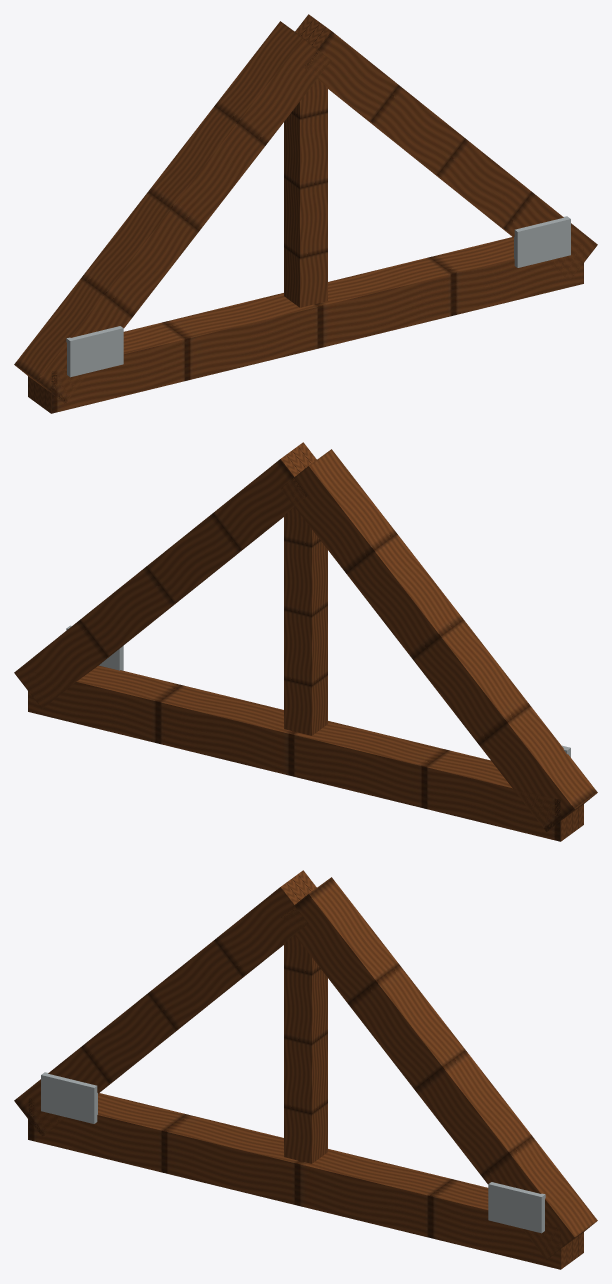
The model's file is modular-survival-base-builder-gable-truss-a07a261a__24249.glb.
The picture shows the model from 3 angles, top to bottom: view 1: azimuth 30°, elevation 25°; view 2: azimuth 150°, elevation 25°; view 3: azimuth 330°, elevation 25°; orthographic projection.
Parts seen in each view (by area): view 1: gable-truss; view 2: gable-truss; view 3: gable-truss.
Boxes of the visible parts, x1=… form: gable-truss: x1=14, y1=14, x2=597, y2=413; gable-truss: x1=14, y1=442, x2=597, y2=841; gable-truss: x1=14, y1=870, x2=597, y2=1269.
Size of the model in its own units: 2.11 by 1.13 by 0.17.
2 materials, 1 textured.
